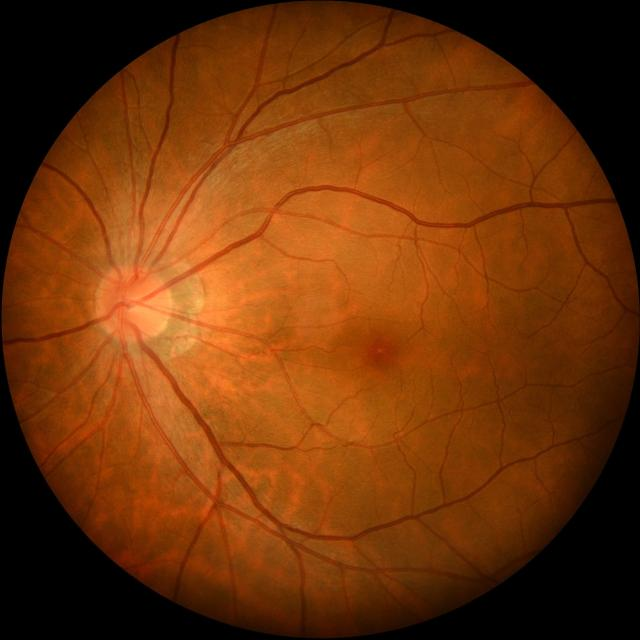OC: (124, 292, 148, 318)
OD: (95, 265, 171, 341)
